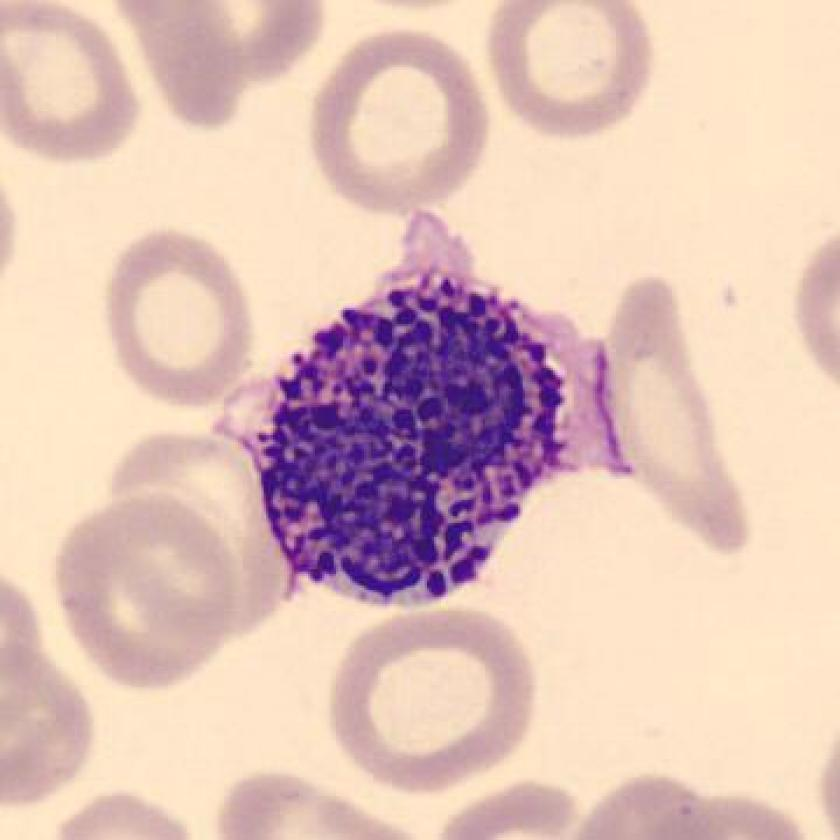basophil: (249, 249, 592, 605)
